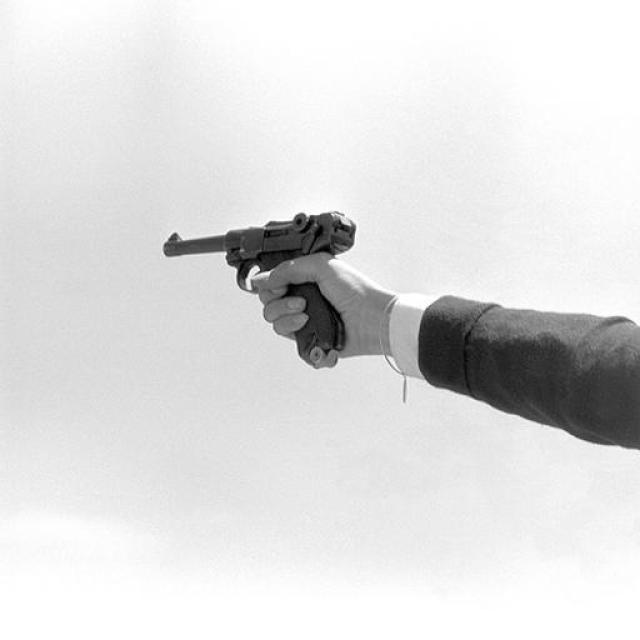pistol: (161, 207, 352, 367)
